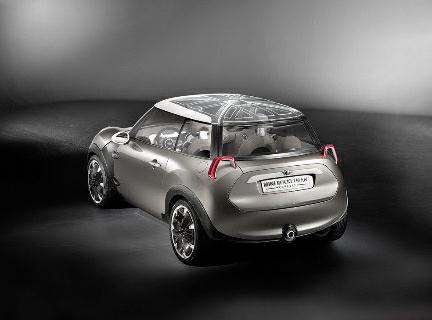MINI-ROCKETMAN: (78, 86, 368, 261)
